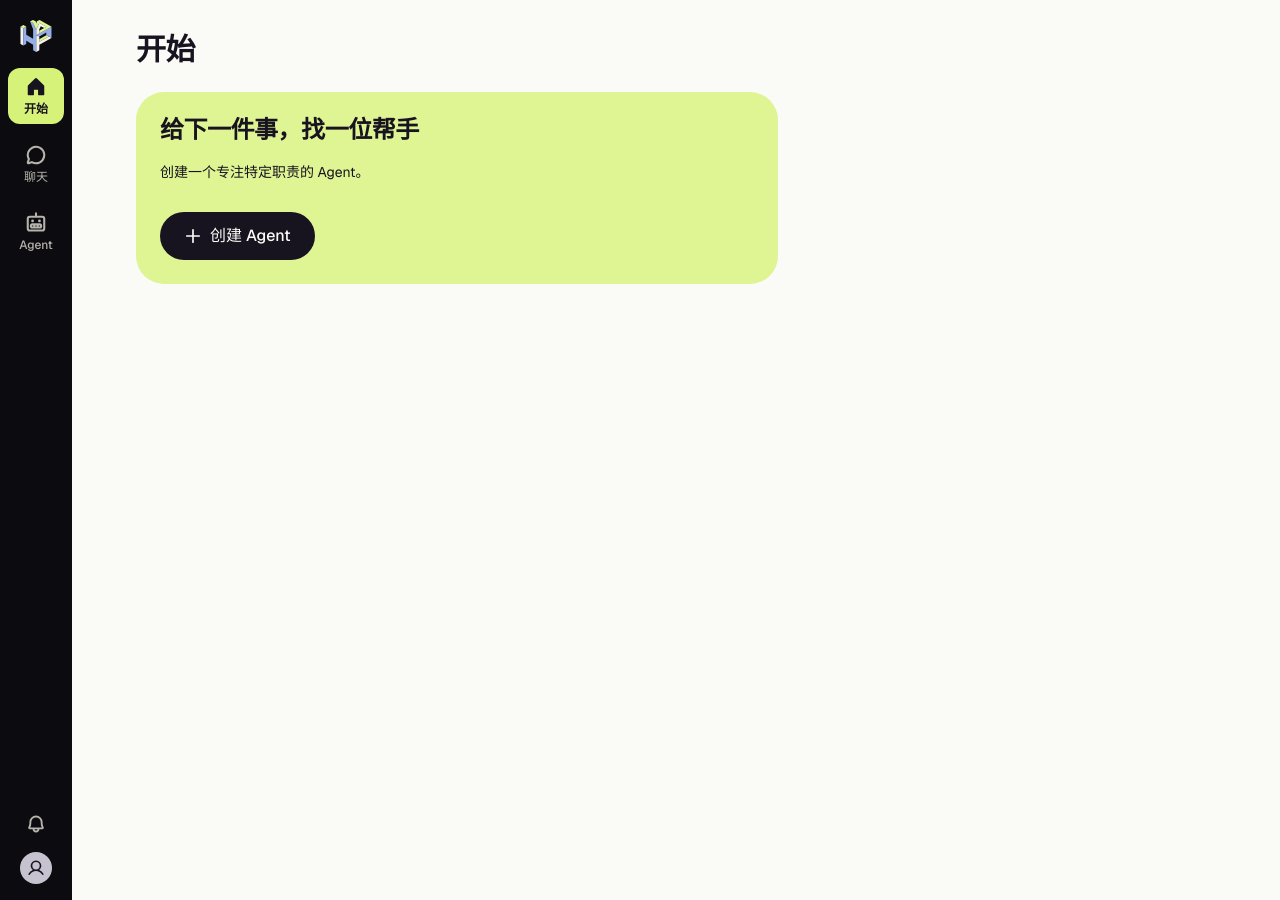
Test case: J3 conversation, drafts and sending › TC-014 TC-015 enables sending only with content
The width and height of the screenshot is (1280, 900).
Click the button "聊天". click: click(36, 164)
box: [8,136,64,192]
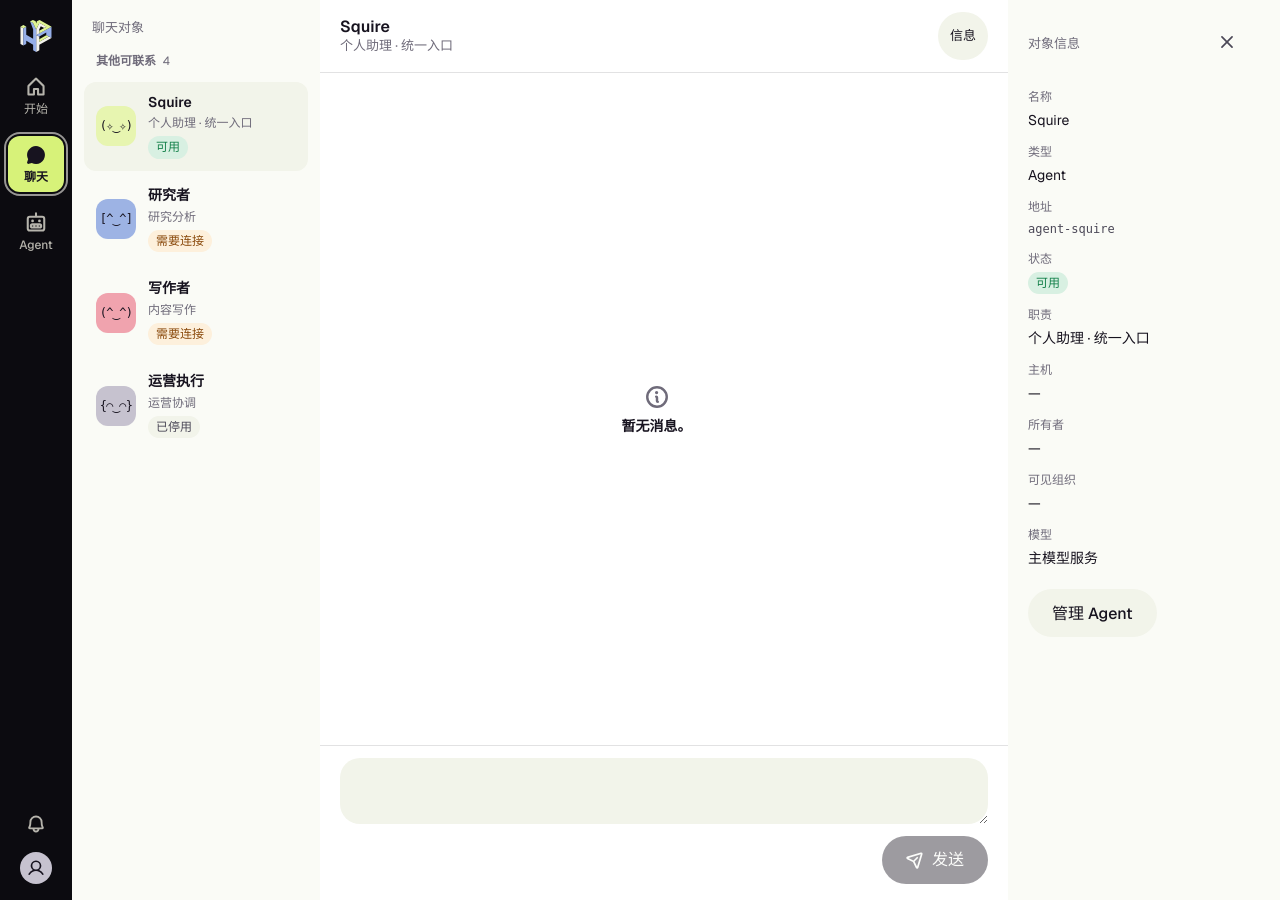
Now the button "发送" is disabled, box [882,836,988,884]
Type "你好" into the text box named "给 Squire 的消息". click: (664, 791)
box: [340,758,988,824]
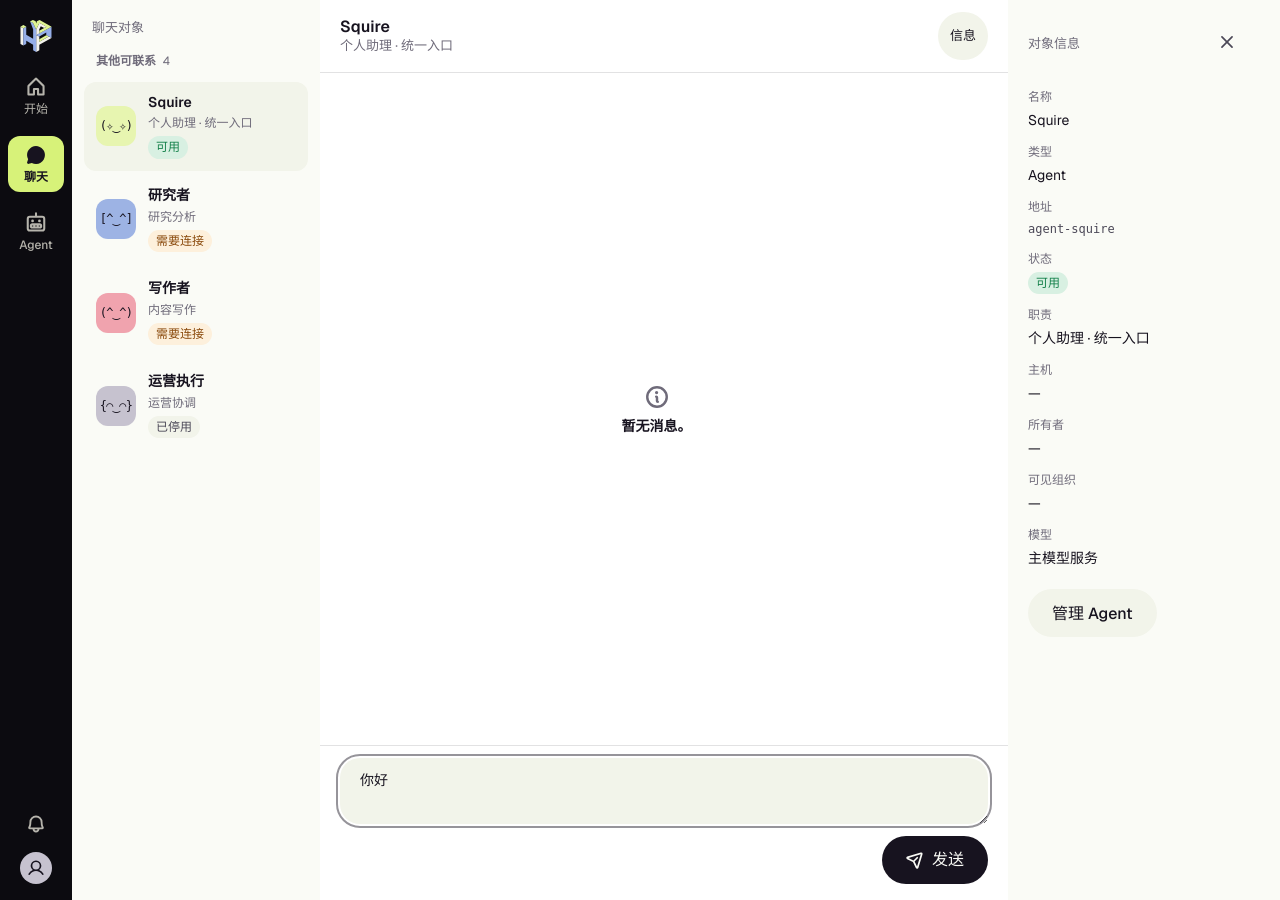
Now the button "发送" is enabled, box [882,836,988,884]
